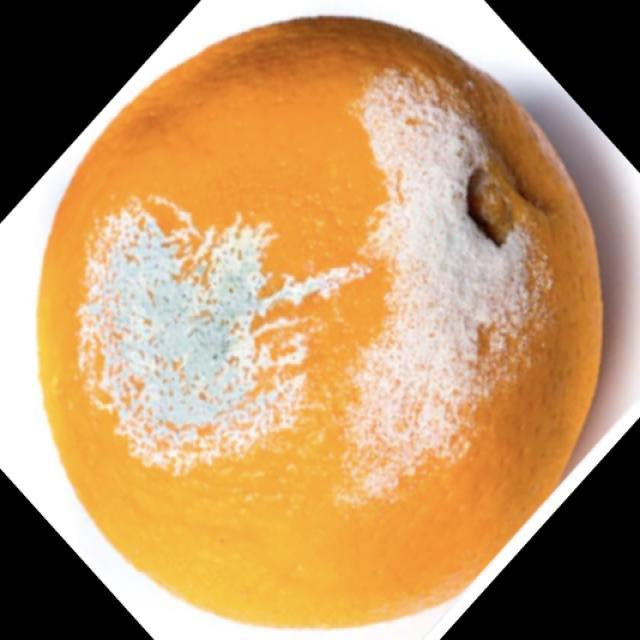sedikit-busuk: (39, 19, 600, 625), (78, 205, 362, 473), (354, 71, 528, 466)
